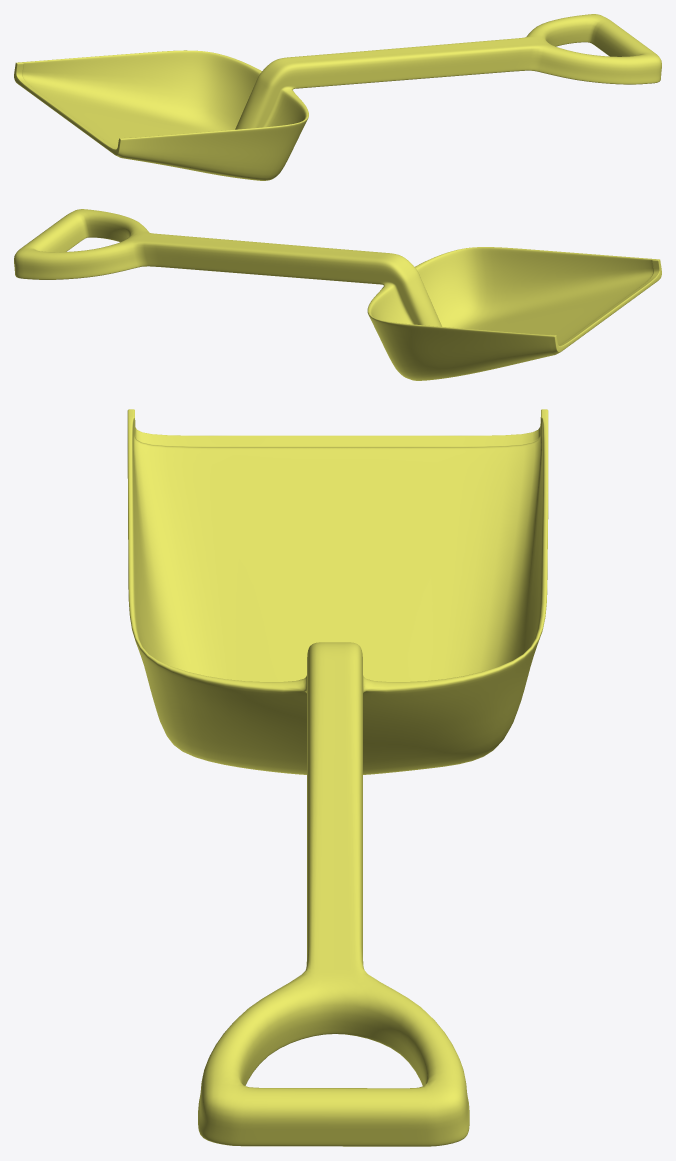
File: shovel.fbx
The picture shows the model from 3 angles, top to bottom: view 1: azimuth 30°, elevation 25°; view 2: azimuth 150°, elevation 25°; view 3: azimuth 270°, elevation 25°; orthographic projection. The views are drawn at different scales.
Visible parts, largest first — view 1: _shovel_v1_L3:shovel; view 2: _shovel_v1_L3:shovel; view 3: _shovel_v1_L3:shovel.
Part boxes in pixels (x1,y1,x2,y2): _shovel_v1_L3:shovel: (14, 14, 661, 180); _shovel_v1_L3:shovel: (14, 209, 661, 380); _shovel_v1_L3:shovel: (127, 409, 548, 1146).
Bounding box in the file's own units: 3.71 × 0.5944 × 1.19.
